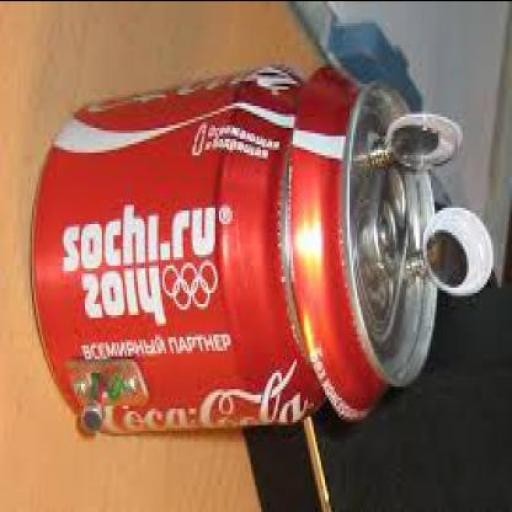metal: (30, 61, 440, 437)
